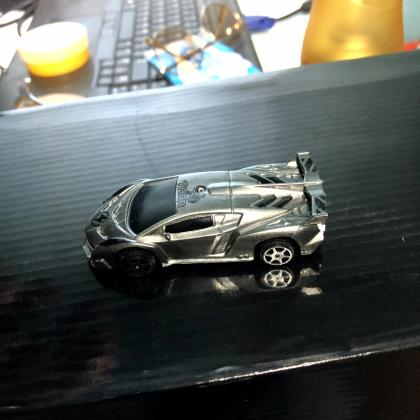Car: (75, 147, 333, 280)
